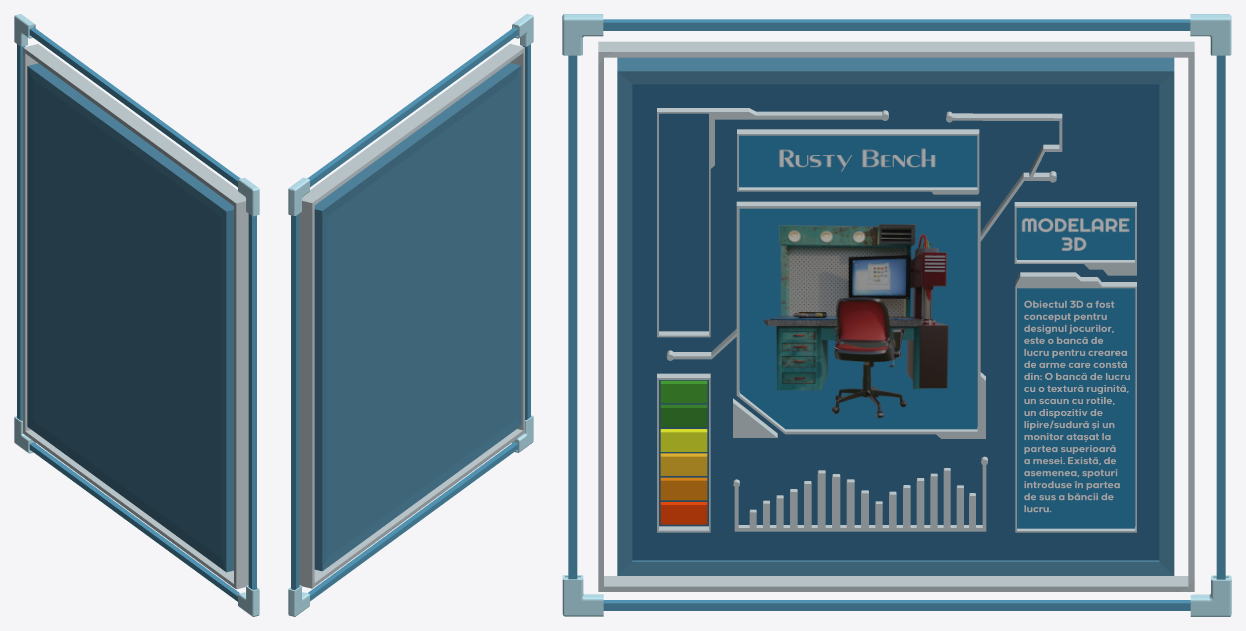
The model's file is bench.glb.
The picture shows the model from 3 angles, left to right: view 1: azimuth 30°, elevation 25°; view 2: azimuth 150°, elevation 25°; view 3: azimuth 270°, elevation 25°; orthographic projection. The views are drawn at different scales.
Parts seen in each view (by area): view 1: rama_interior, rama_dintre, rama_exterioara, colt_stanga_jos; view 2: rama_interior, rama_dintre, rama_exterioara, colt_stanga_jos; view 3: fundalinterior, panou_logo, rama_interior, panou_text, rama_dintre, rama_exterioara, panou_titlu, rama_logo, grafic, panou_tema, colt_stanga_jos, stanga_spatiugolbaterie (+11 smaller).
Part boxes in pixels (x1,y1,x2,y2): rama_interior: [27, 63, 233, 572]; rama_dintre: [23, 44, 248, 589]; rama_exterioara: [17, 27, 256, 601]; colt_stanga_jos: [14, 14, 259, 616]; rama_interior: [314, 63, 521, 571]; rama_dintre: [299, 43, 524, 588]; rama_exterioara: [291, 27, 530, 601]; colt_stanga_jos: [288, 14, 533, 616]; fundalinterior: [632, 84, 1159, 560]; panou_logo: [740, 208, 977, 429]; rama_interior: [617, 57, 1174, 575]; panou_text: [1017, 288, 1134, 528]; rama_dintre: [598, 41, 1194, 591]; rama_exterioara: [568, 19, 1225, 610]; panou_titlu: [739, 135, 977, 187]; rama_logo: [666, 111, 1062, 438]; grafic: [733, 456, 987, 531]; panou_tema: [1017, 208, 1134, 259]; colt_stanga_jos: [562, 14, 1231, 616]; stanga_spatiugolbaterie: [657, 108, 888, 337].
Size of the model in its own units: 0.4011 by 6.77 by 6.85.
23 materials, 4 textured.
